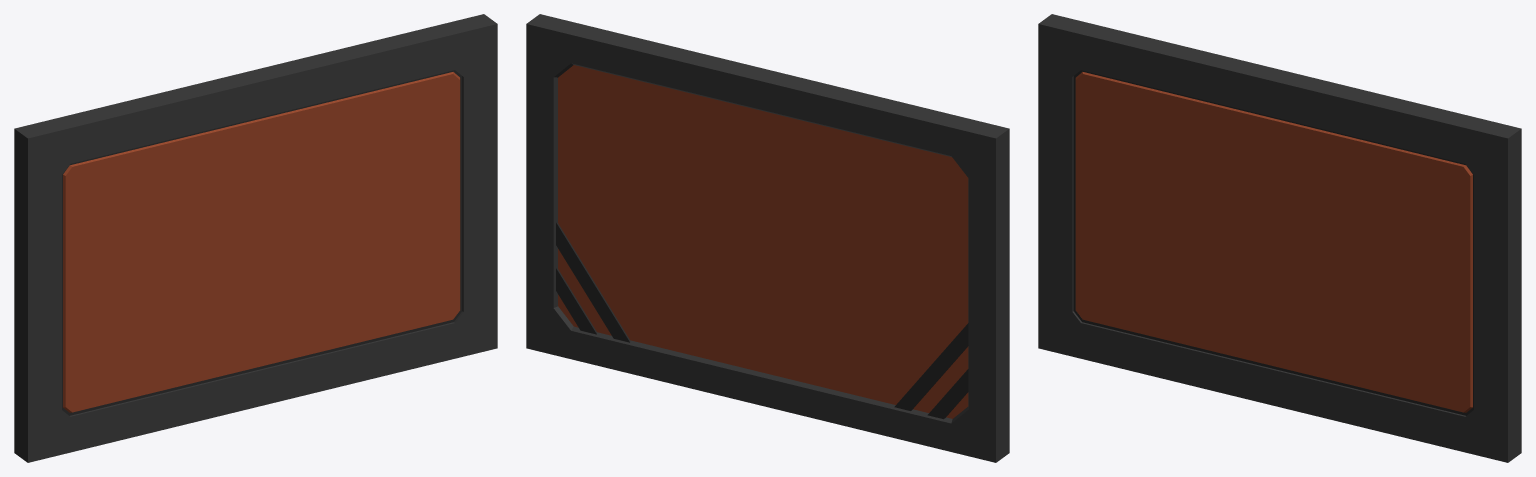
File: SM_BuildingPart_24.fbx
3 views of the same model, side by side, from view 1: azimuth 30°, elevation 25°; view 2: azimuth 150°, elevation 25°; view 3: azimuth 330°, elevation 25° (orthographic).
Parts seen in each view (by area): view 1: SM_BuildingPart_24; view 2: SM_BuildingPart_24; view 3: SM_BuildingPart_24.
Boxes of the visible parts, box(x1,y1,x2,y2) form: SM_BuildingPart_24: box(14, 14, 497, 462); SM_BuildingPart_24: box(526, 14, 1009, 462); SM_BuildingPart_24: box(1038, 14, 1521, 462).
Bounding box in the file's own units: 500 × 330 × 25.
